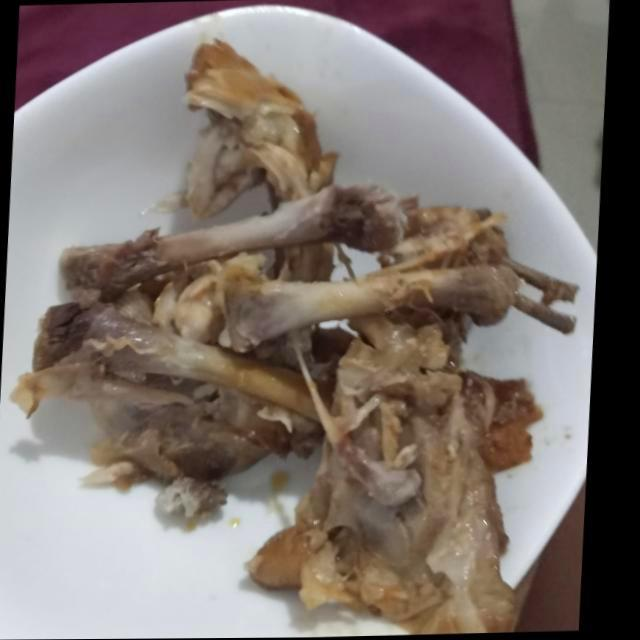left_over_food: (251, 312, 549, 635), (14, 290, 330, 532), (158, 253, 521, 353), (144, 39, 341, 220), (62, 186, 410, 288), (381, 196, 582, 336), (270, 244, 337, 283)
